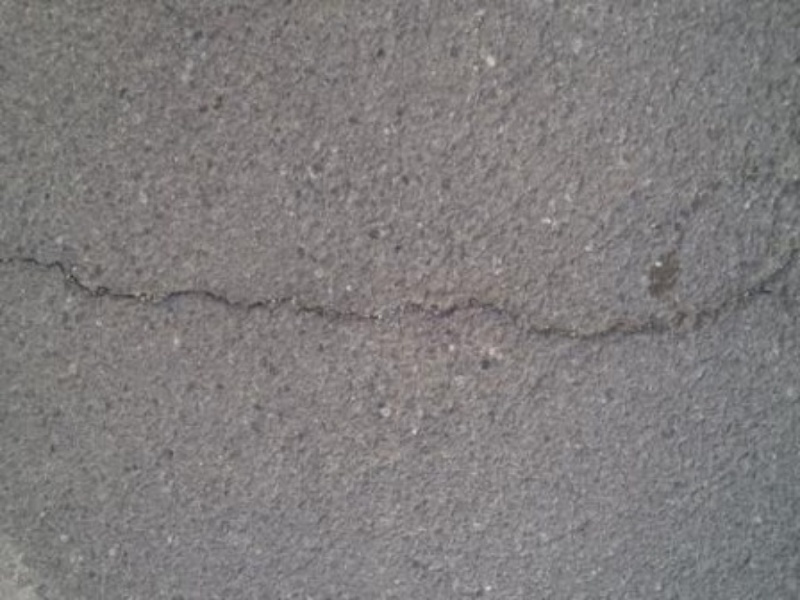crack: (15, 211, 793, 371)
